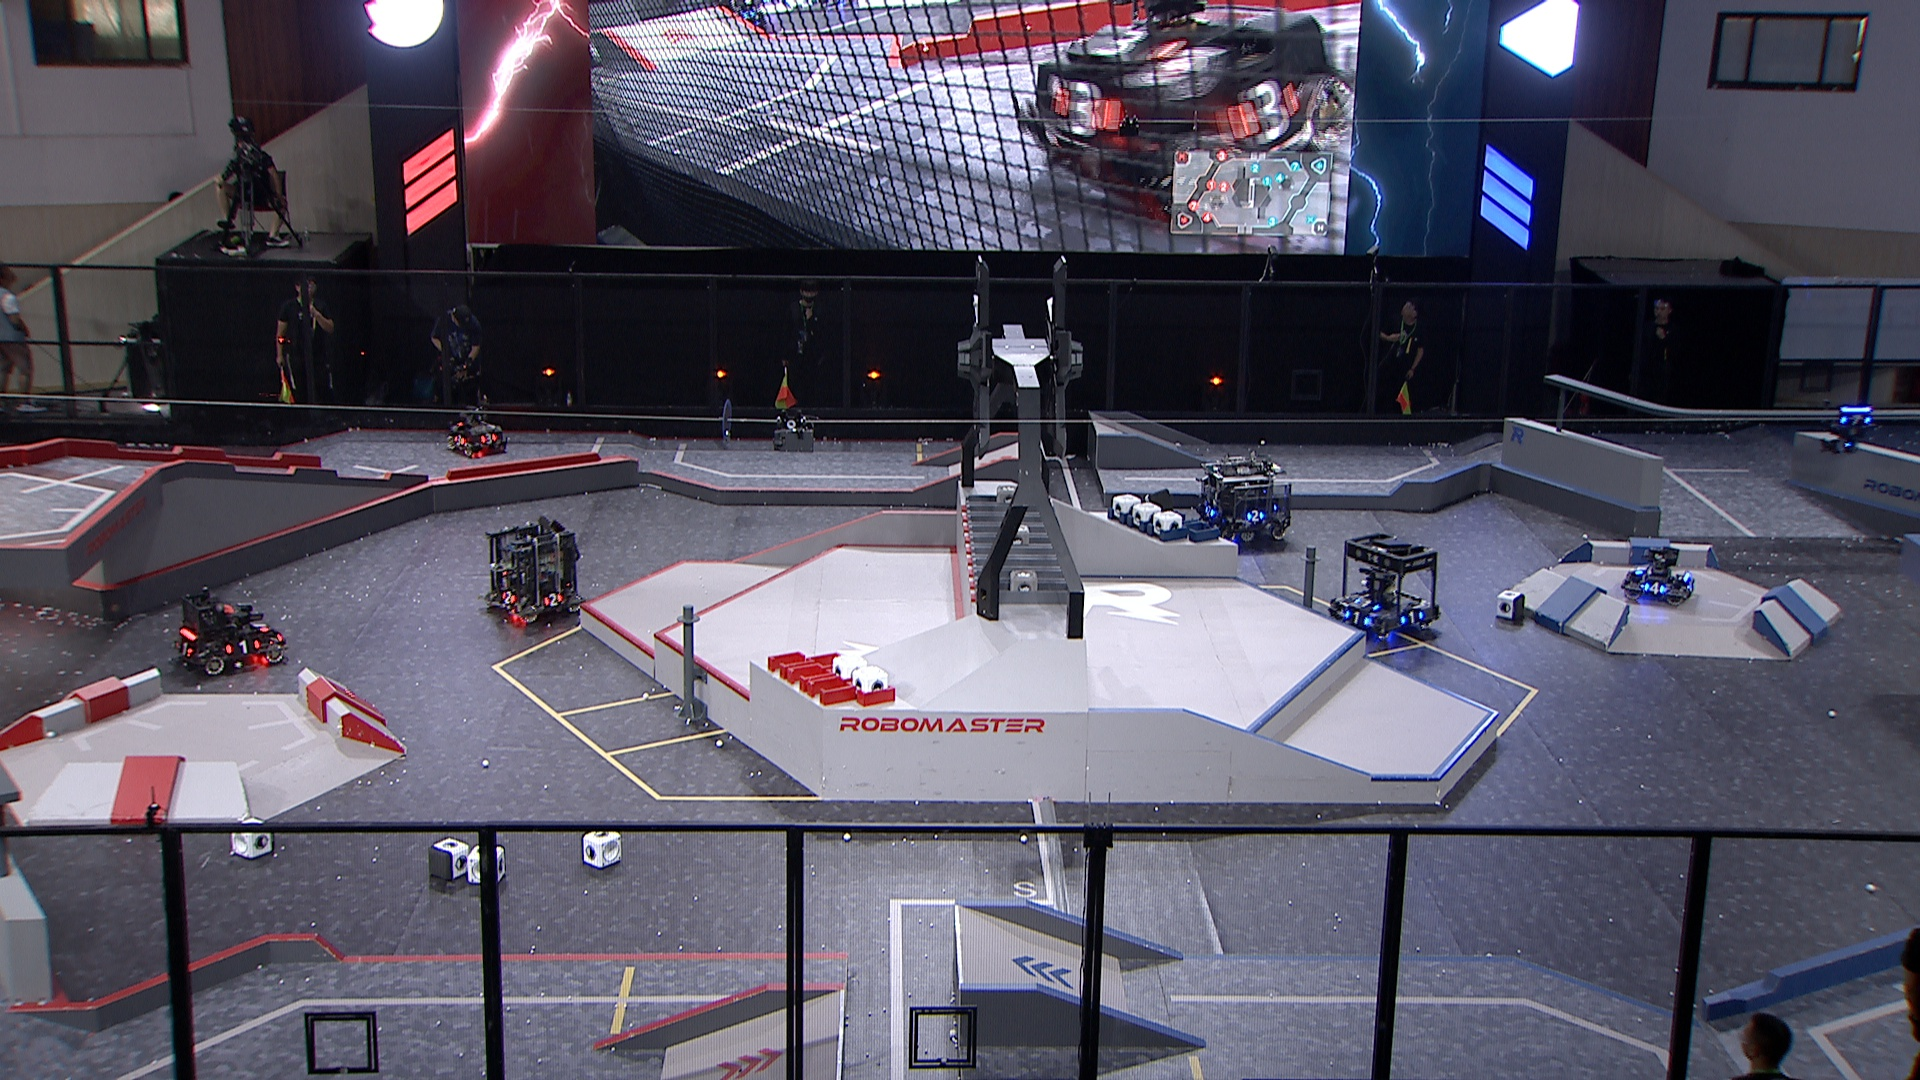armor: (224, 638, 261, 655), (1338, 611, 1370, 629), (1837, 413, 1873, 429), (173, 641, 199, 659), (1642, 582, 1669, 597), (542, 591, 566, 608), (1400, 611, 1425, 626), (1244, 508, 1267, 524), (1354, 597, 1379, 611), (498, 589, 516, 607), (1200, 504, 1218, 520), (249, 621, 272, 633), (477, 433, 498, 444), (451, 433, 465, 448), (1631, 564, 1648, 574)
car: (1325, 529, 1443, 641), (481, 512, 585, 629), (167, 585, 287, 678), (1193, 451, 1292, 547), (1623, 541, 1695, 605), (447, 407, 510, 458)
watcher: (1817, 404, 1876, 456)
